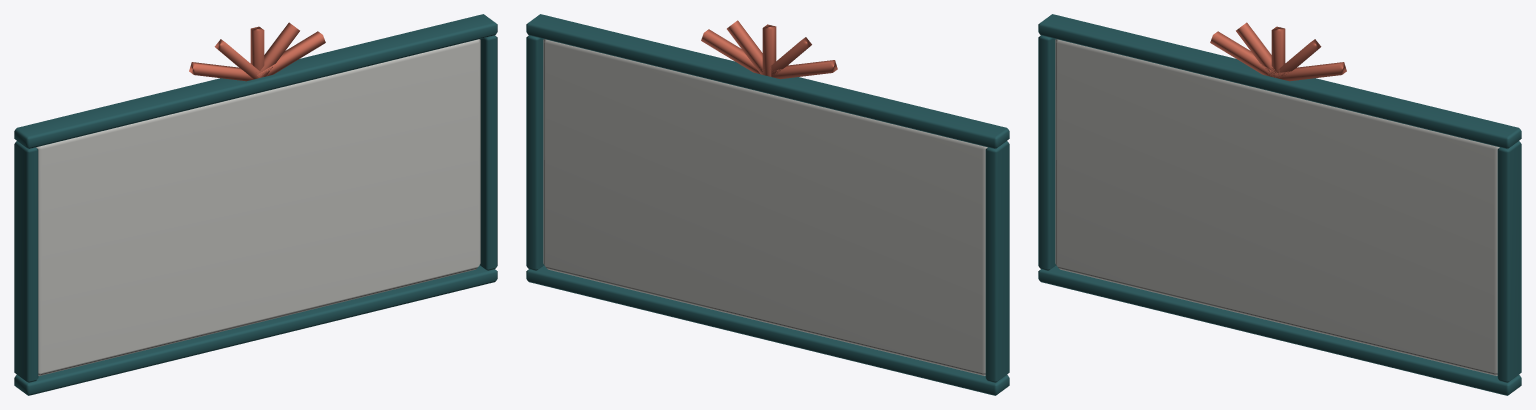
Rendered from SignBoardMIA.fbx.
3 renders of one model, left to right at view 1: azimuth 30°, elevation 25°; view 2: azimuth 150°, elevation 25°; view 3: azimuth 330°, elevation 25°, orthographic.
Parts seen in each view (by area): view 1: SignBoardMIA; view 2: SignBoardMIA; view 3: SignBoardMIA.
Part boxes in pixels (x1,y1,x2,y2): SignBoardMIA: (14,14,497,395); SignBoardMIA: (526,14,1009,395); SignBoardMIA: (1038,14,1521,395).
Bounding box in the file's own units: 1.9 × 1.18 × 0.1.
